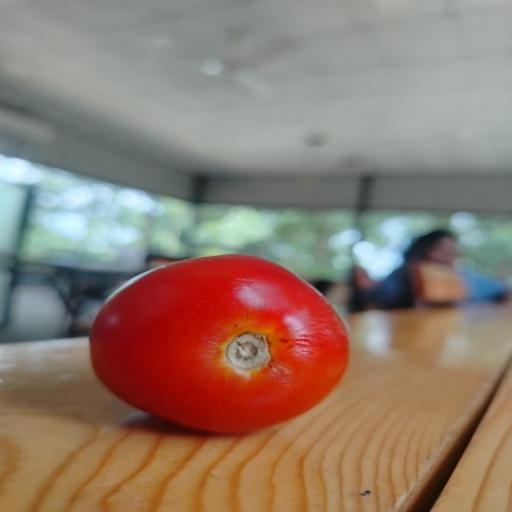spoiled: (90, 255, 349, 432)
